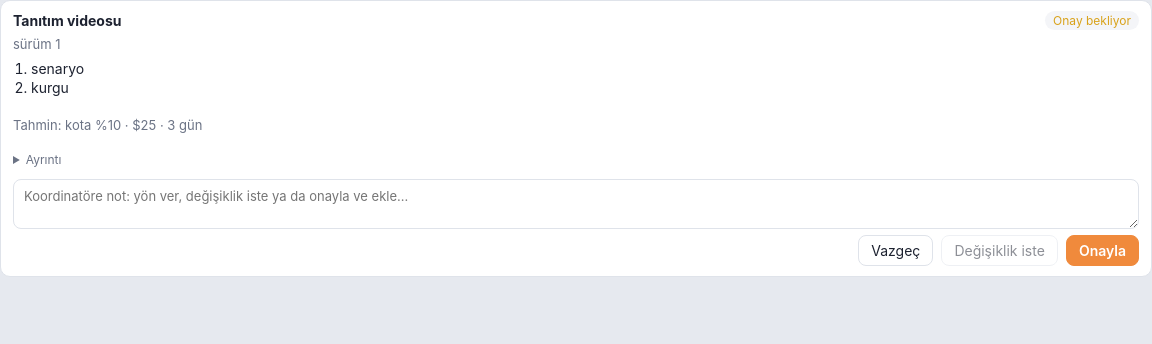
PlanCard › lets the owner decline and shows an API error
The image size is (1152, 344).
Click the button "Vazgeç": (896, 250) [858, 235, 933, 266]
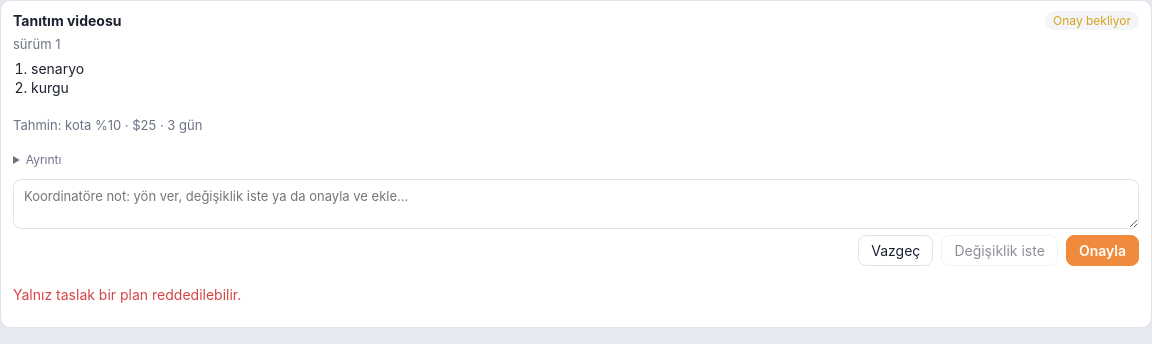
expect the message reads "Yalnız taslak bir plan reddedilebilir.": met, box [13, 286, 241, 303]
